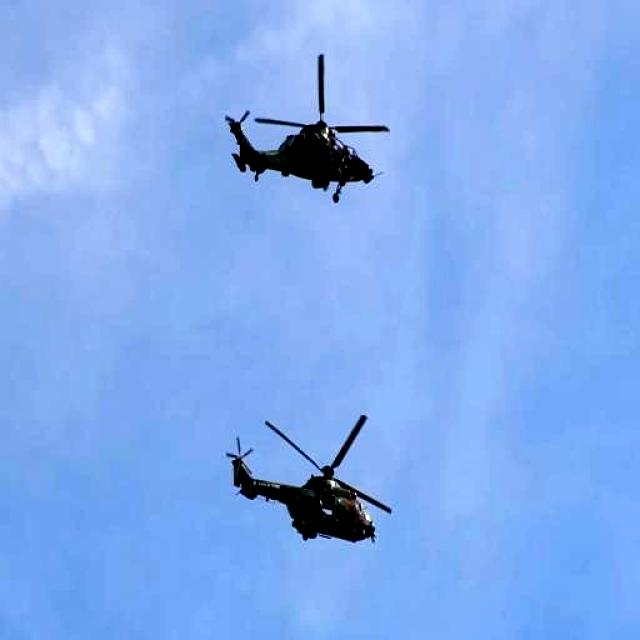drone: (215, 384, 406, 571), (224, 49, 392, 235)
